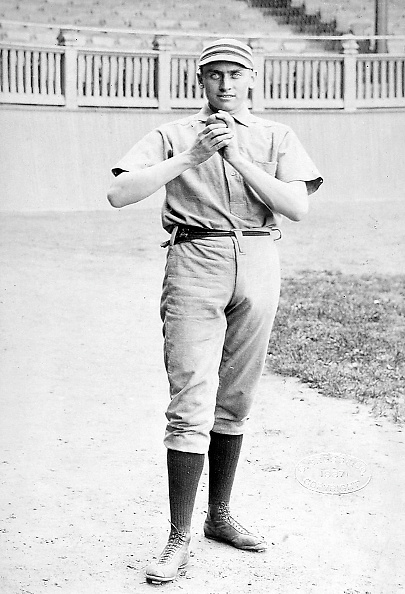em pe: (123, 32, 310, 594)
